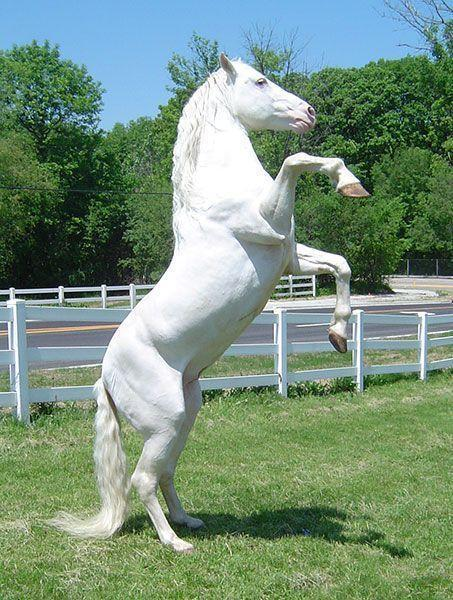horse: (47, 51, 370, 555)
